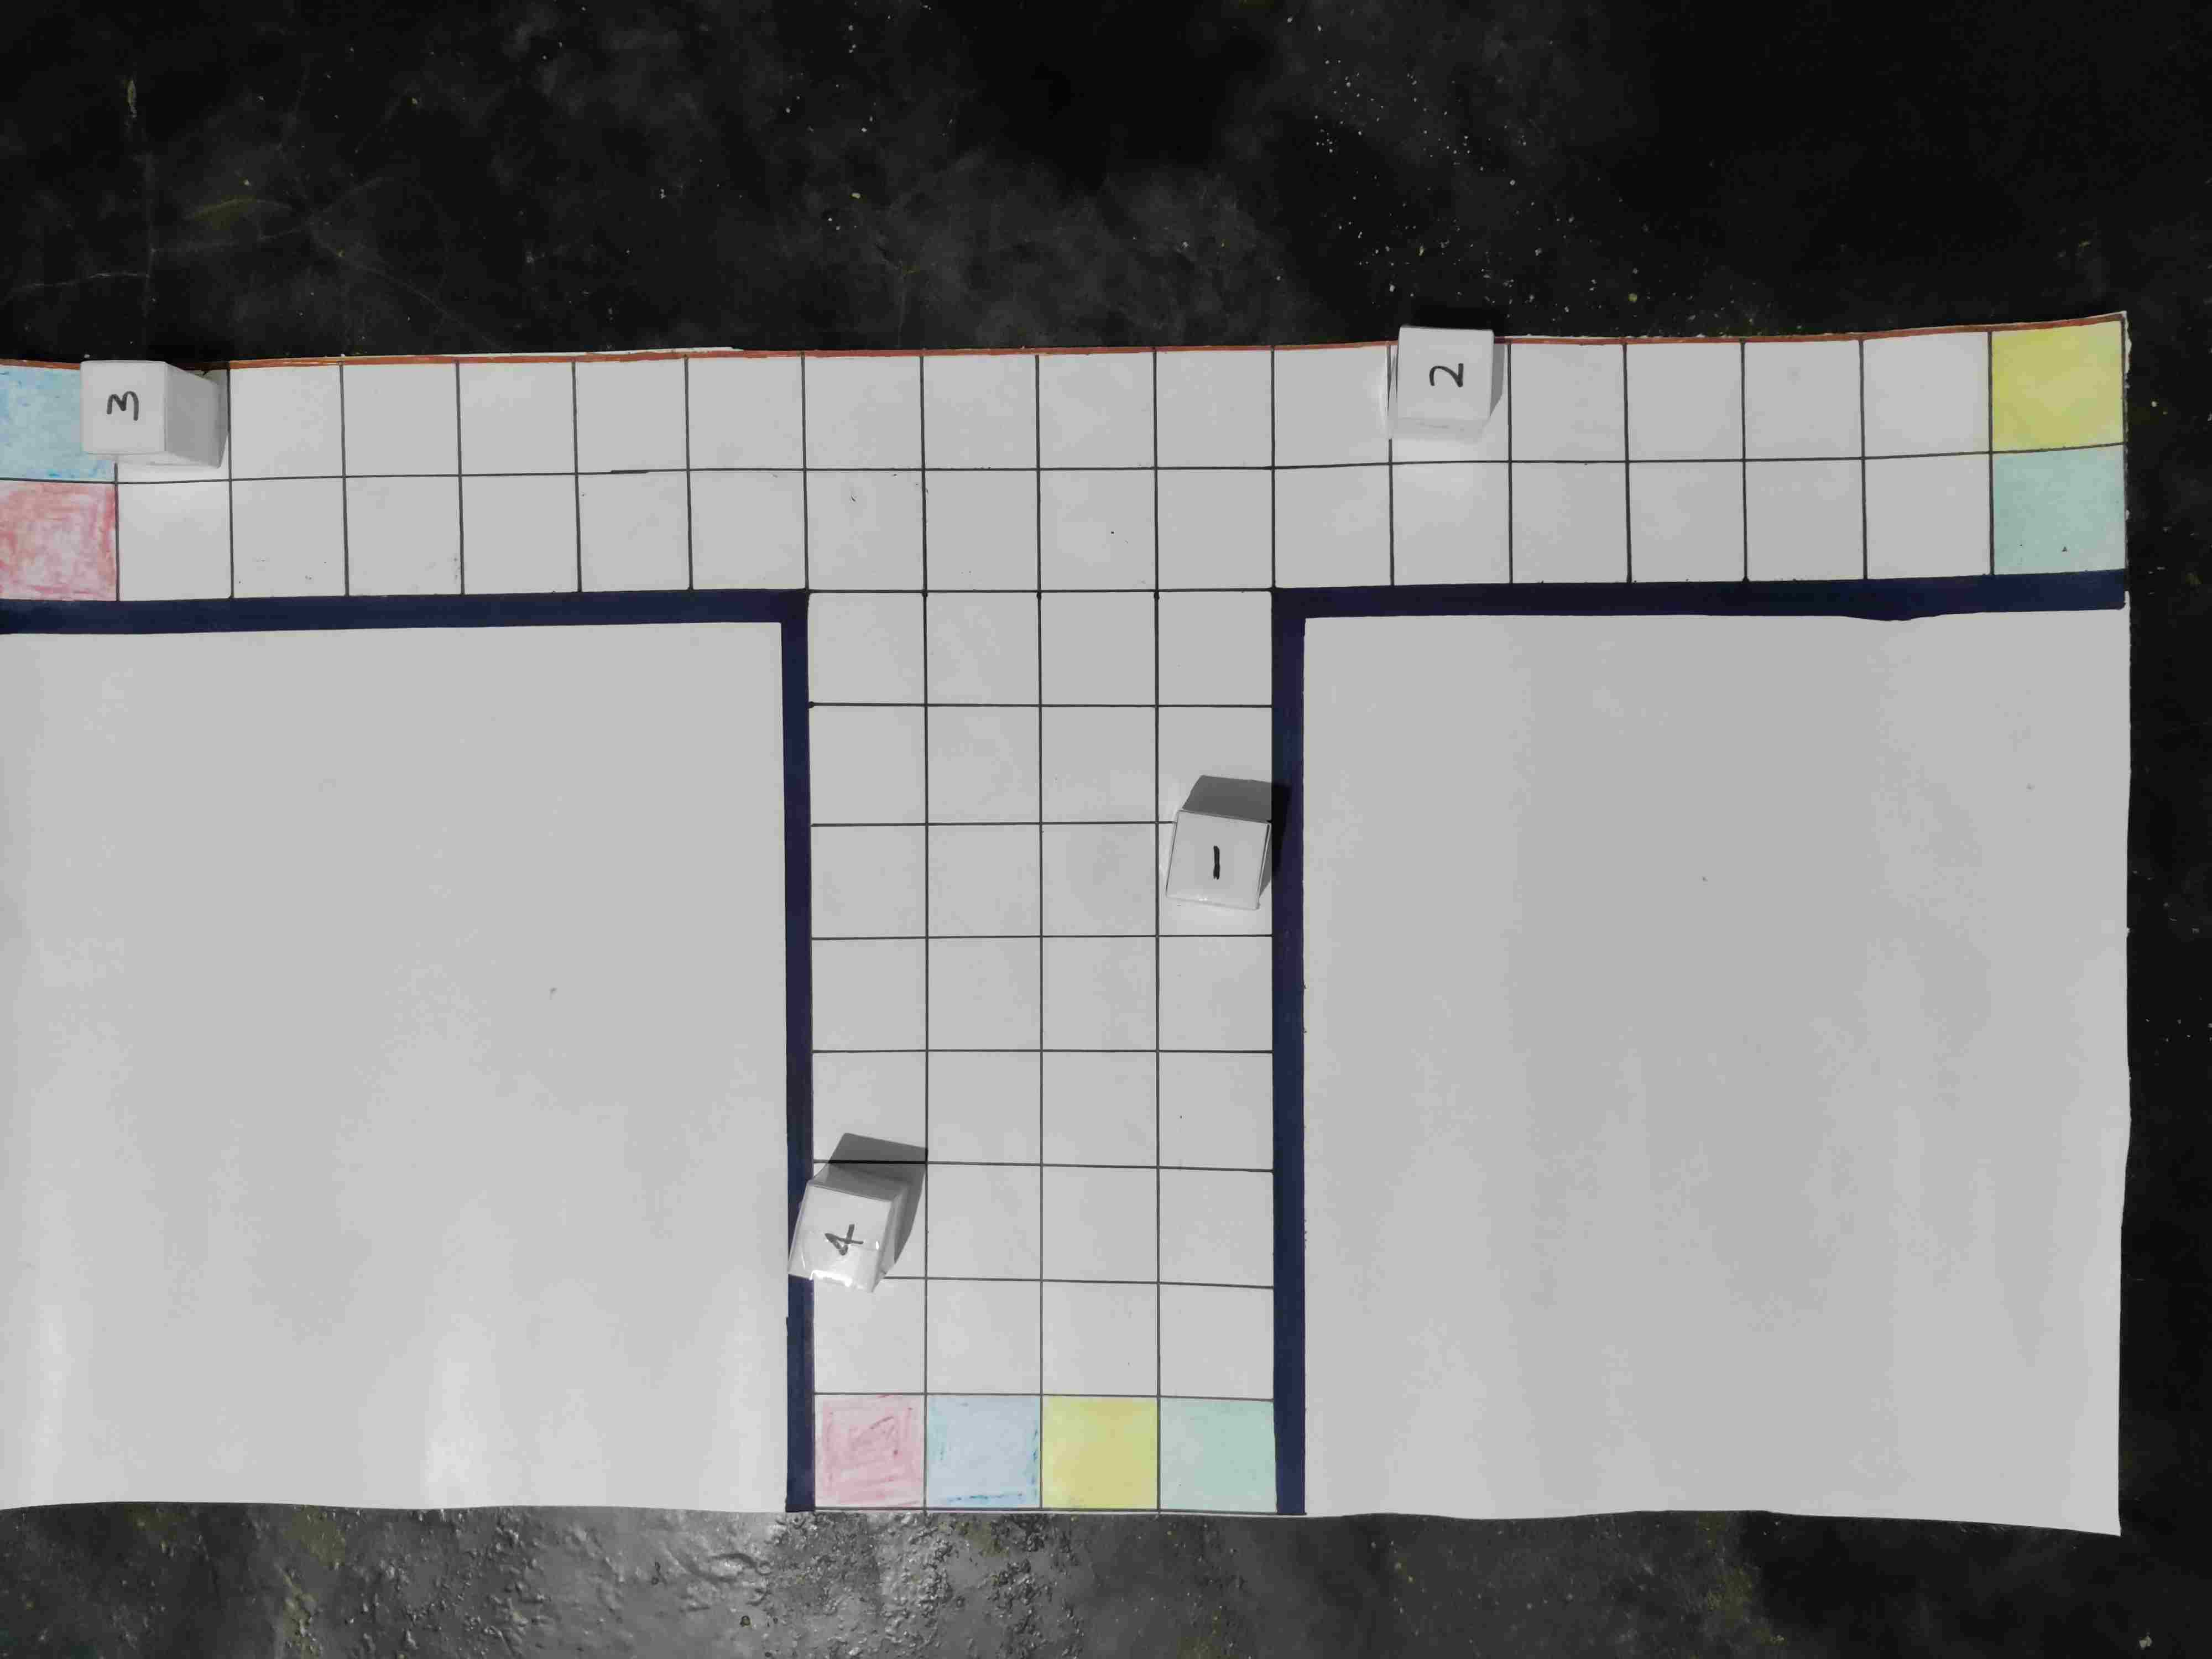arena: (0, 319, 2123, 1525)
bot: (786, 1187, 885, 1288), (1397, 324, 1489, 422), (80, 356, 167, 455), (1170, 816, 1268, 903)
